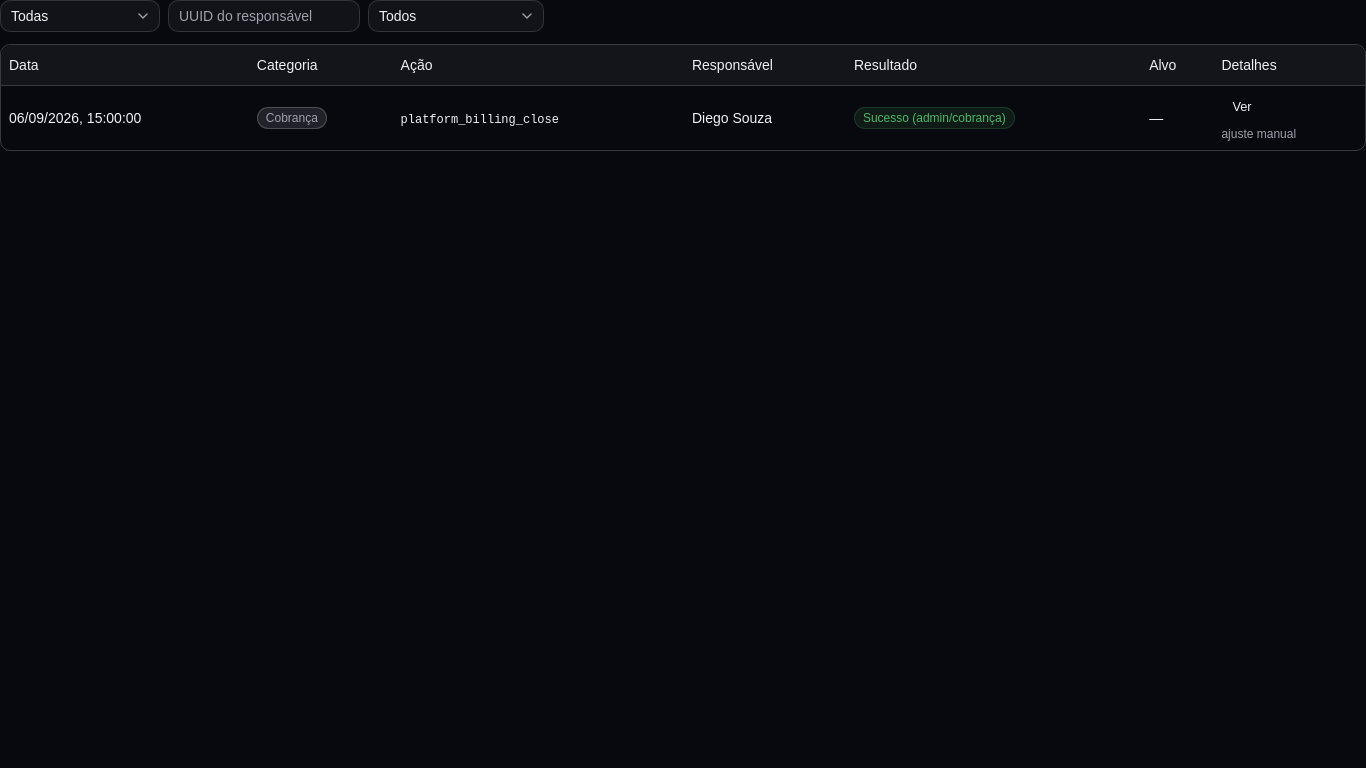
Test case: OrgAudit › abre o payload sanitizado num Popover em vez de imprimir JSON cru na célula
expect the text "\"org_id\"" is not shown: met
expect the text "ajuste manual" is shown: met, box [1221,126,1296,142]
Click the button "Ver" at (1242, 108), box [1221,94,1263,122]
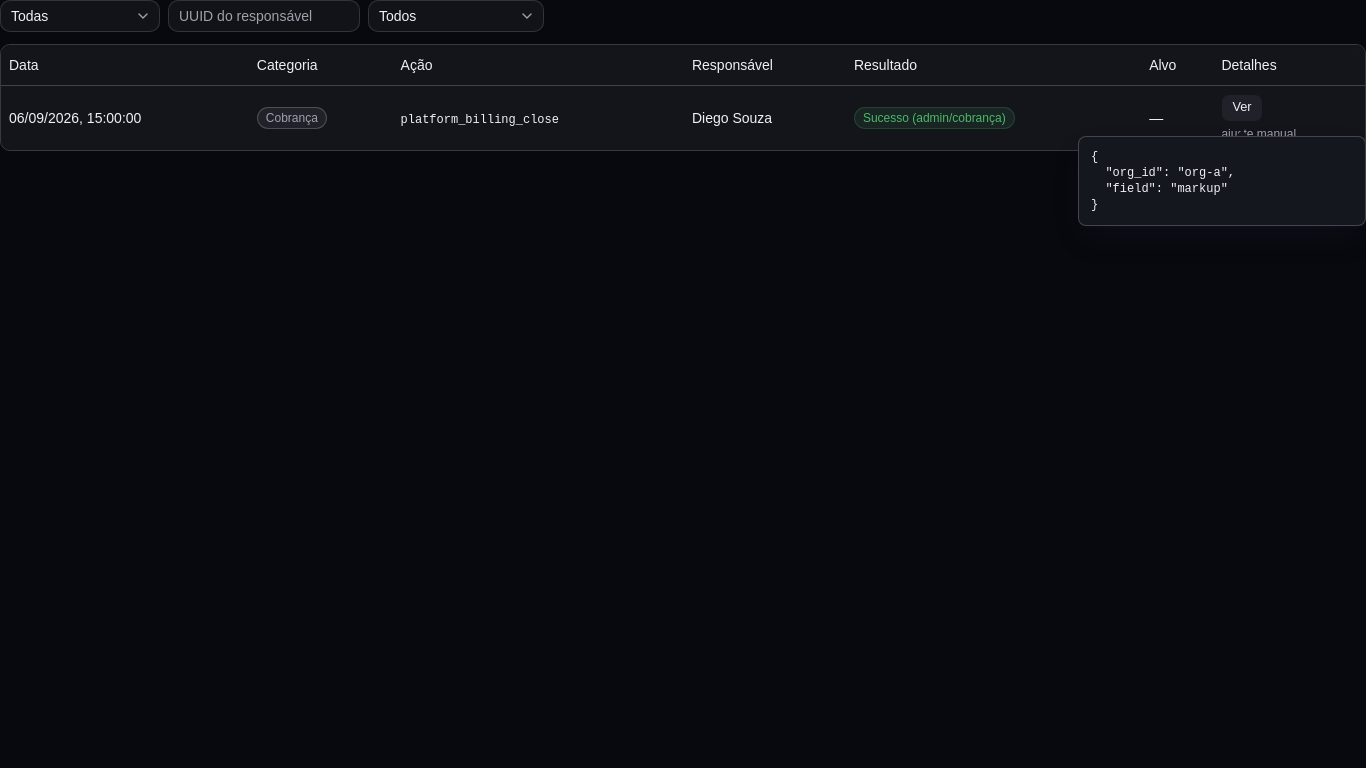
expect the text "{ \"org_id\": \"org-a\", \"field\": \"markup\" }" is shown: met, box [1091,150,1235,212]
